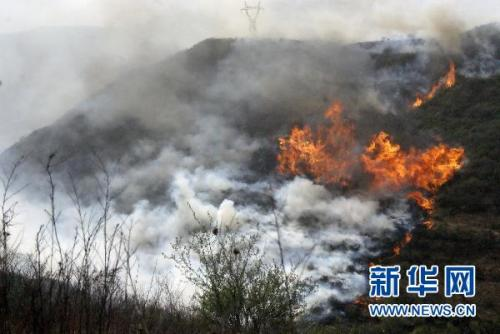fire: (294, 116, 463, 183)
smoke: (2, 5, 279, 173), (3, 176, 370, 290), (283, 10, 413, 114)
